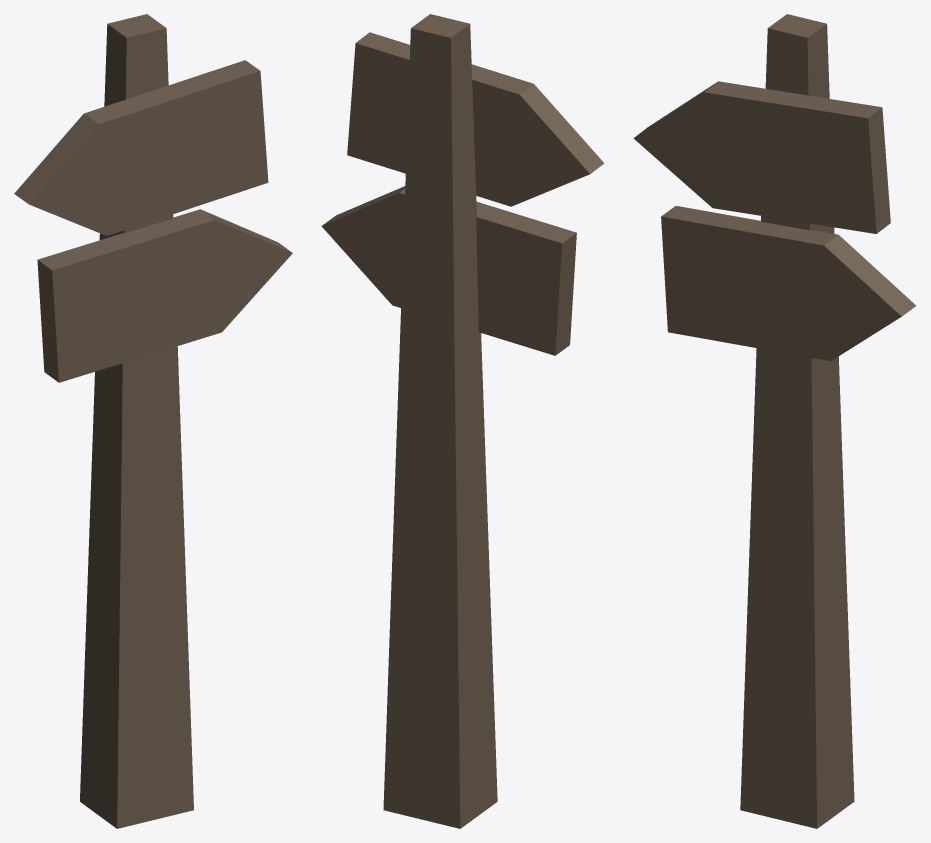
The model's file is signpost.fbx.
3 views of the same model, side by side, from view 1: azimuth 30°, elevation 25°; view 2: azimuth 150°, elevation 25°; view 3: azimuth 330°, elevation 25° (orthographic).
Visible parts, largest first — view 1: signpost; view 2: signpost; view 3: signpost.
Boxes of the visible parts, x1,y1,x2,y2 form: signpost: [14, 14, 292, 828]; signpost: [321, 14, 604, 828]; signpost: [633, 14, 916, 828].
Bounding box in the file's own units: 60.04 × 168 × 18.28.
